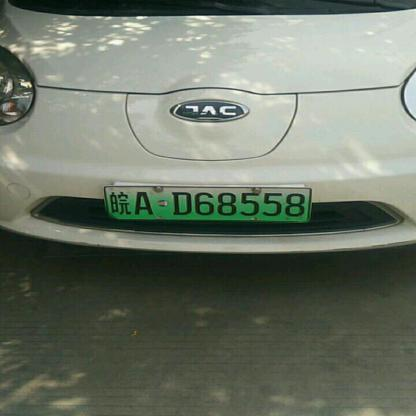lp: (103, 186, 310, 221)
